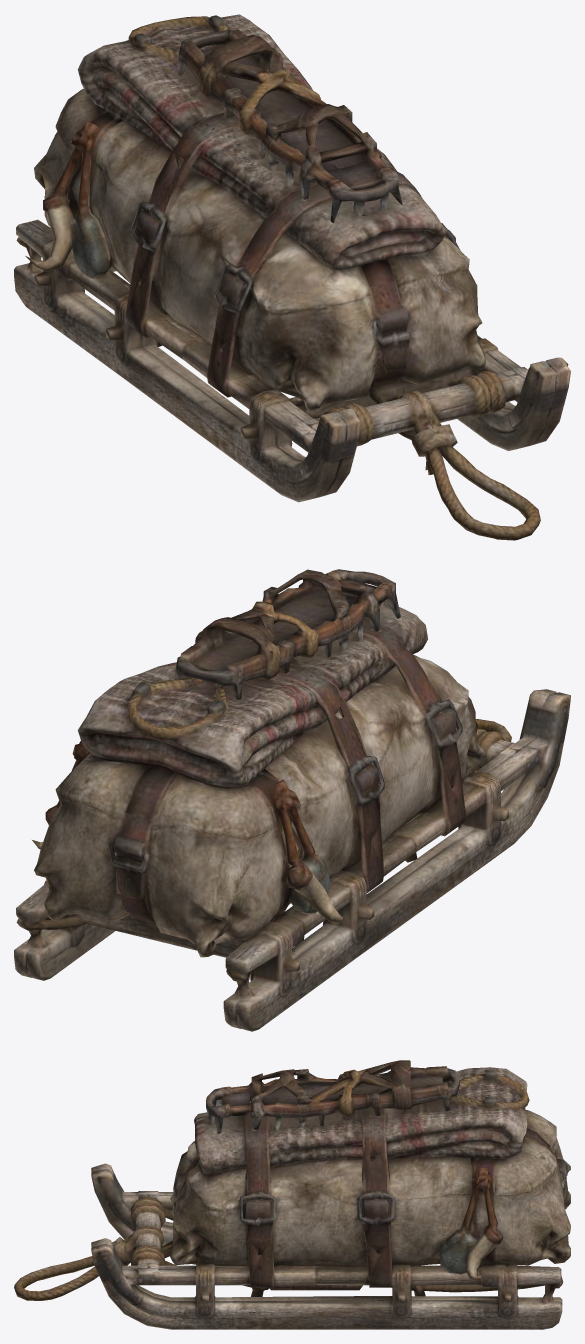
File: lm_healer_sledge.glb
3 renders of one model, top to bottom at view 1: azimuth 30°, elevation 25°; view 2: azimuth 150°, elevation 25°; view 3: azimuth 270°, elevation 25°, orthographic. The views are drawn at different scales.
Visible parts, largest first — view 1: lm_healer_sledge; view 2: lm_healer_sledge; view 3: lm_healer_sledge.
Part boxes in pixels (<box>): lm_healer_sledge: <box>14,14,570,540</box>; lm_healer_sledge: <box>14,569,570,1031</box>; lm_healer_sledge: <box>14,1060,570,1329</box>.
Size of the model in its own units: 0.8051 by 0.7552 by 1.7.
1 material, 1 textured.
